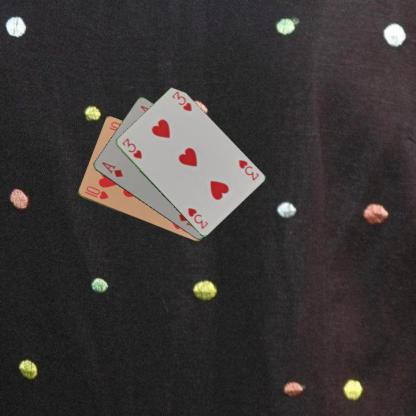10h: (82, 183, 110, 201)
3h: (119, 135, 143, 160), (236, 157, 260, 182)
Ad: (99, 160, 124, 178)
